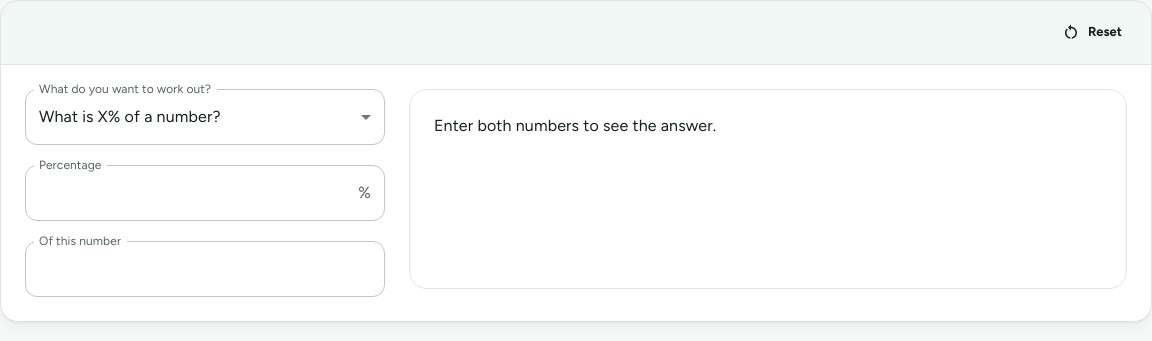
Test: PercentageCalculatorTool › clears everything on reset
The width and height of the screenshot is (1152, 341).
Type "15" into the number field labelled "Percentage" at x=188, y=193, box [25,165,350,221]
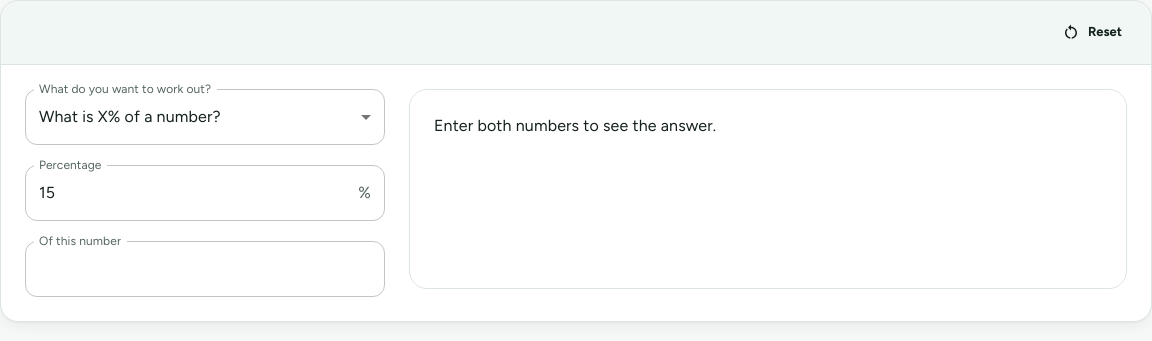
Type "200" into the number field labelled "Of this number" at x=205, y=269, box [25,241,385,297]
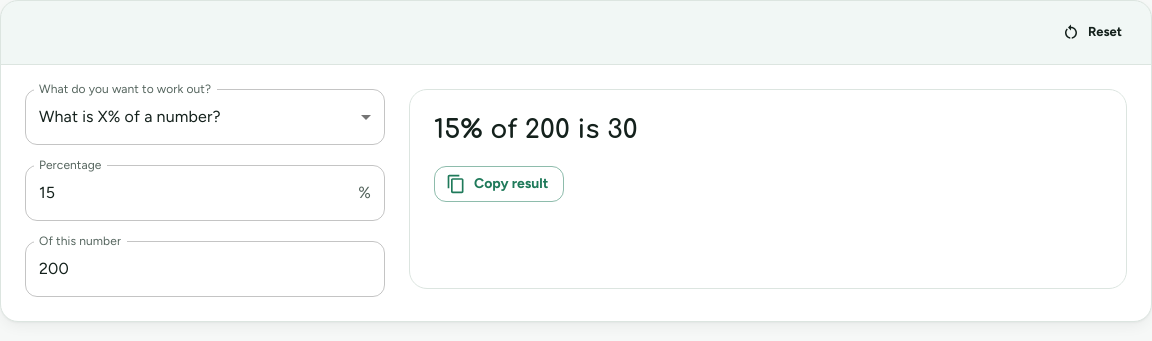
Click the button "Reset" at x=1093, y=32, box [1059,17,1127,48]
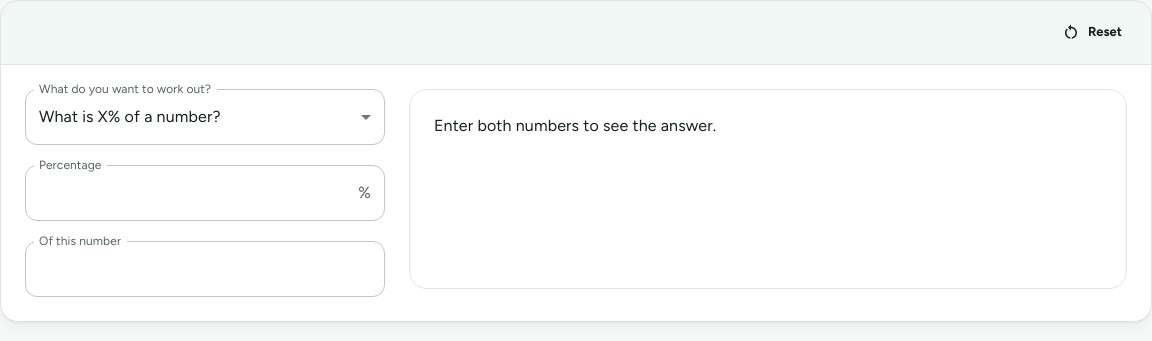
Check: the number field labelled "Percentage" is not empty, box [25,165,350,221]
Check: the text "Enter both numbers to see the answer." is shown, box [434,116,716,135]
